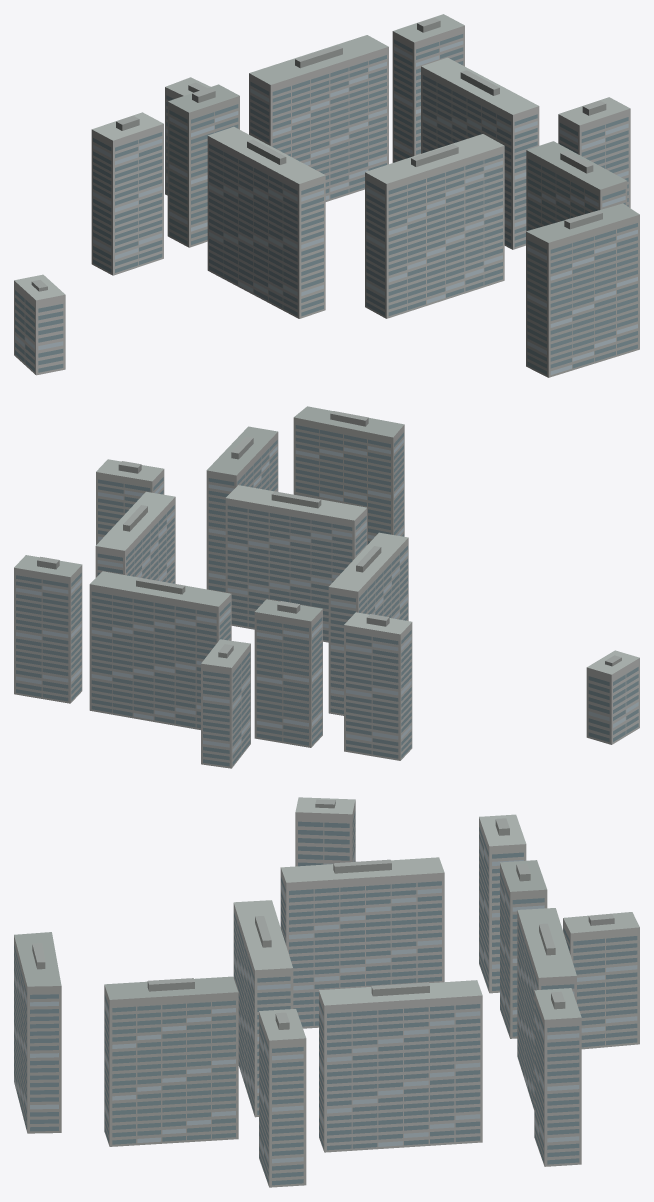
Rendered from apt-a13676703.glb.
The picture shows the model from 3 angles, top to bottom: view 1: azimuth 30°, elevation 25°; view 2: azimuth 150°, elevation 25°; view 3: azimuth 270°, elevation 25°; orthographic projection. The views are drawn at different scales.
Visible parts, largest first — view 1: apt-a13676703; view 2: apt-a13676703; view 3: apt-a13676703.
Boxes of the visible parts, x1,y1,x2,y2 form: apt-a13676703: (14, 14, 639, 377); apt-a13676703: (14, 406, 639, 768); apt-a13676703: (14, 797, 639, 1187).
Bounding box in the file's own units: 232 × 54 × 199.
